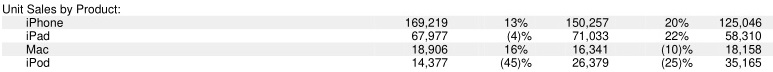column: (1, 1, 120, 72), (719, 1, 763, 72), (566, 1, 609, 72), (406, 1, 448, 72), (500, 1, 532, 72), (661, 1, 693, 72)
row: (1, 3, 773, 16), (1, 29, 773, 42), (1, 17, 772, 29), (1, 44, 773, 55), (1, 58, 773, 68)
